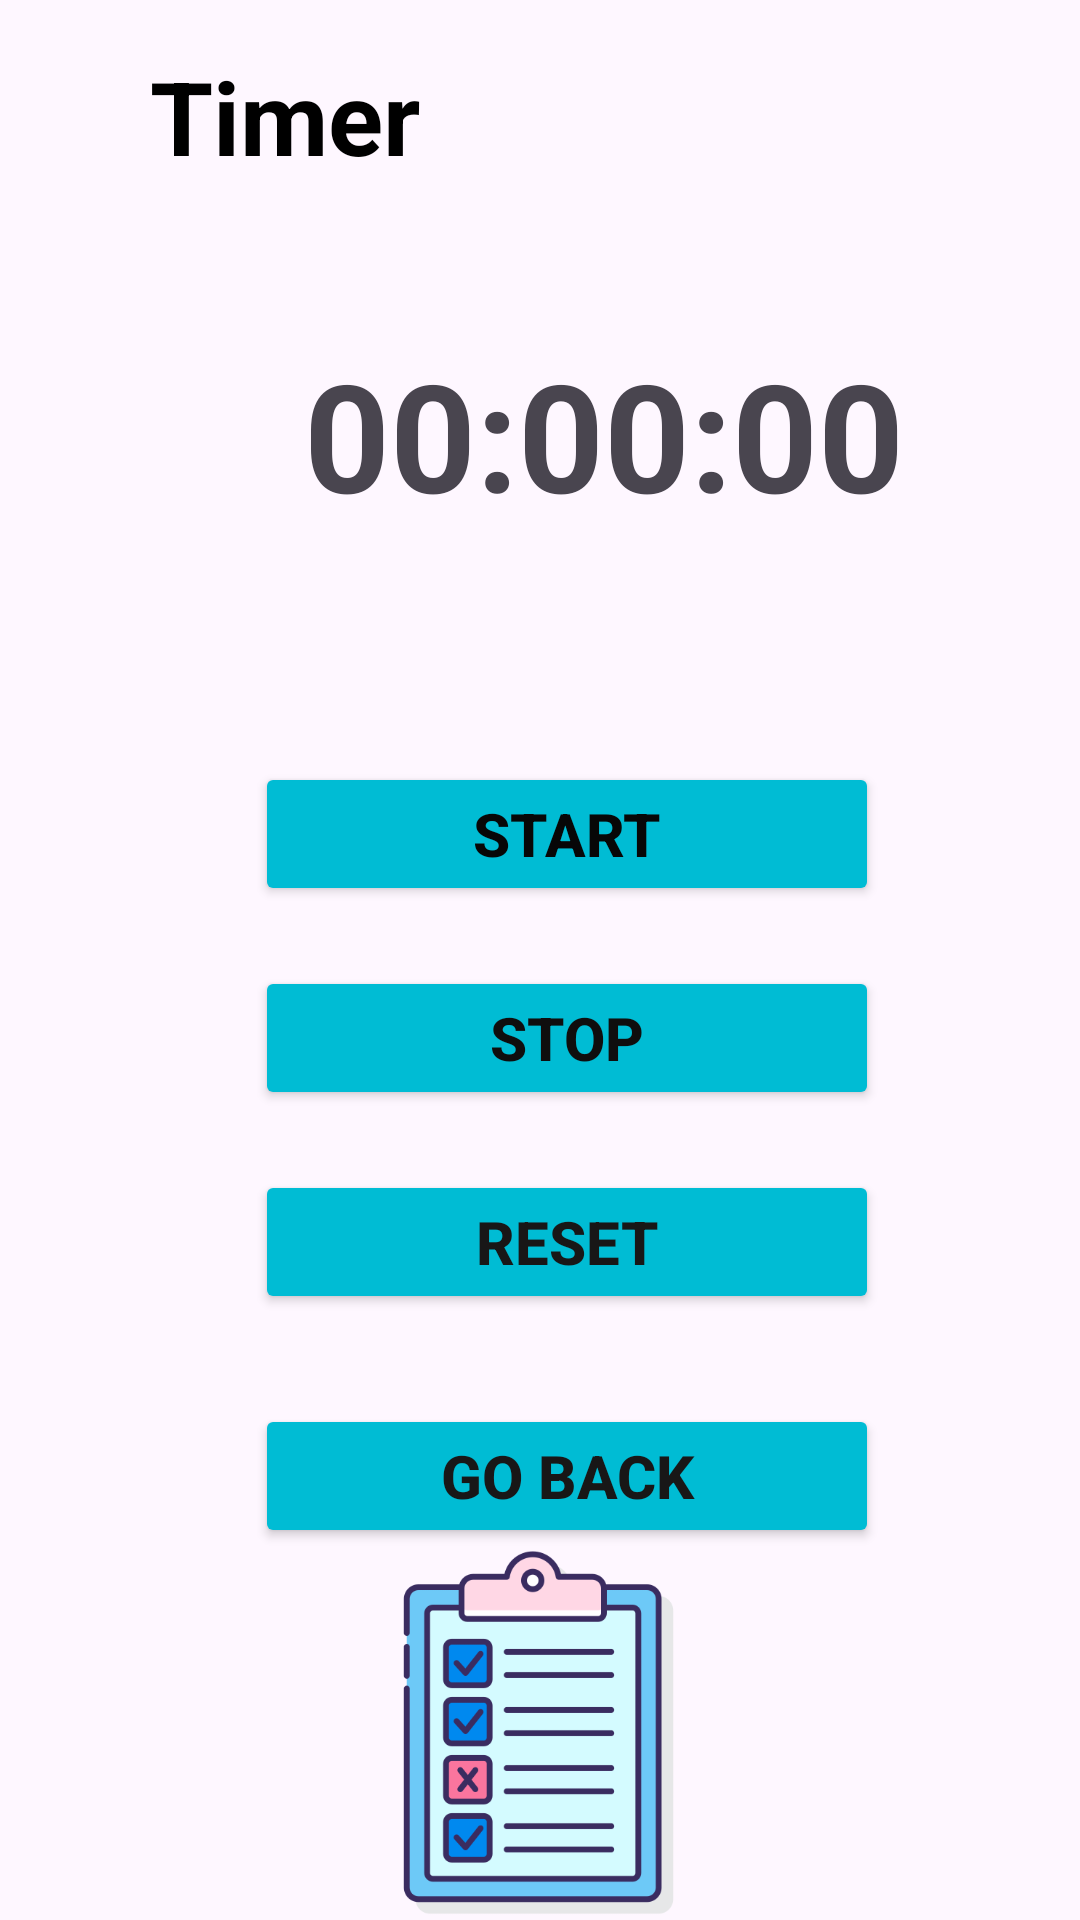

Locate icon controls on the screen. Image size 1080px x 1920px, boxes as (x1, y1, x2, y2).
taskdone: (403, 1551, 662, 1903)
